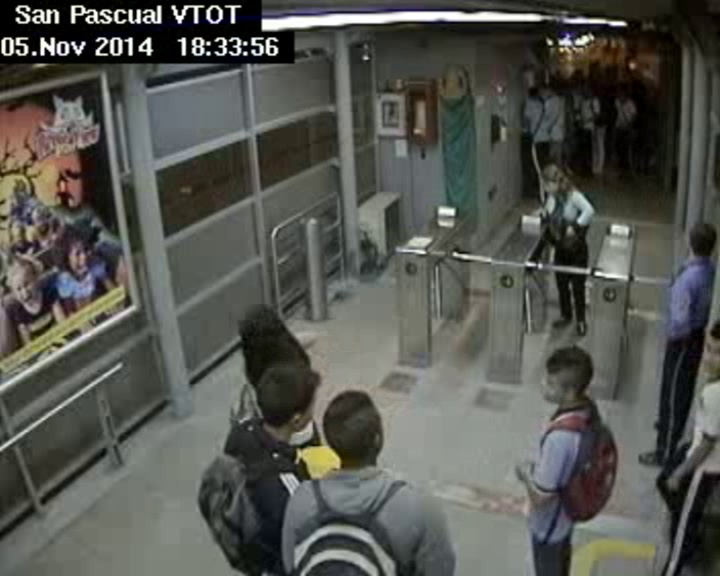person: (315, 380, 397, 460), (536, 335, 604, 414), (258, 360, 325, 425), (675, 215, 720, 270), (230, 306, 289, 347), (534, 159, 575, 202), (703, 319, 720, 385), (546, 80, 565, 95), (526, 85, 542, 101), (583, 79, 596, 98), (612, 89, 629, 103)
